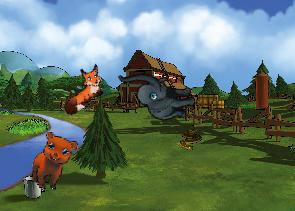bear: (29, 130, 79, 194)
elephant: (118, 59, 198, 129)
fox: (51, 60, 113, 118)
